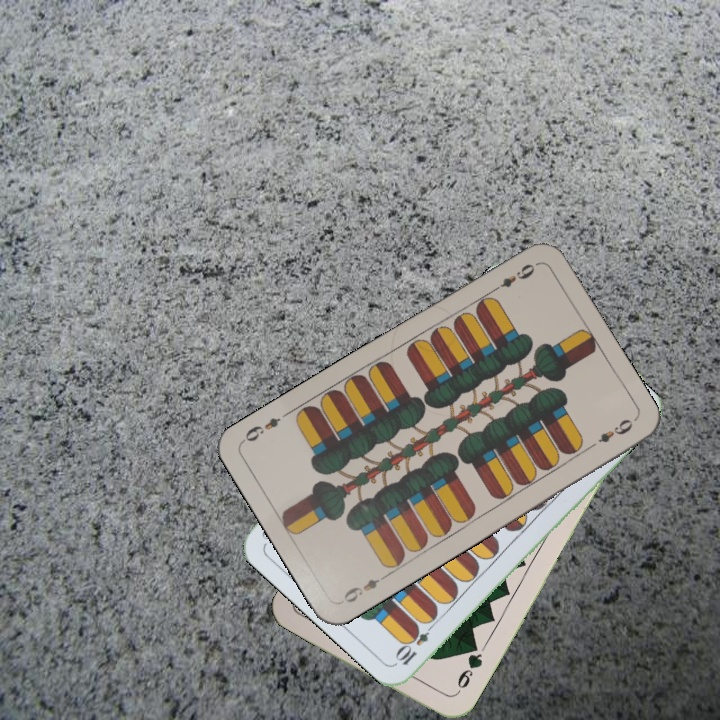E10: (392, 616, 439, 668)
E9: (487, 259, 538, 296), (339, 570, 390, 605)
G9: (449, 642, 485, 699)
